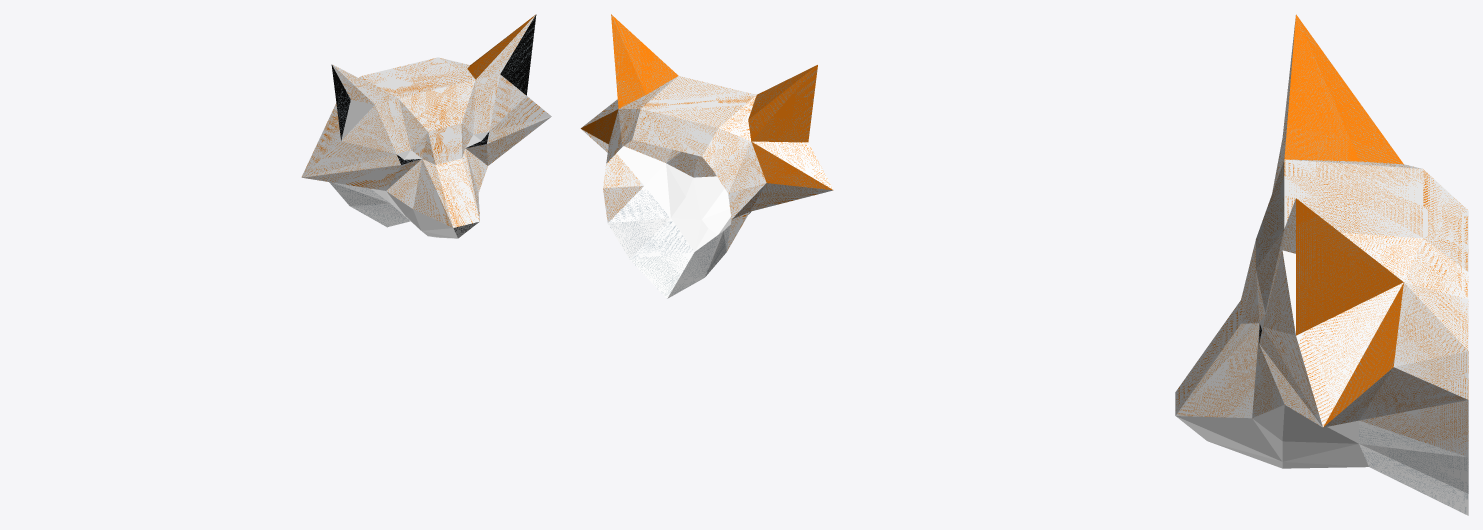
The model's file is fox_DAE.dae.
3 renders of one model, left to right at view 1: azimuth 30°, elevation 25°; view 2: azimuth 150°, elevation 25°; view 3: azimuth 270°, elevation 25°, orthographic. The views are drawn at different scales.
Parts seen in each view (by area): view 1: low_poly_fox_head (×5); view 2: low_poly_fox_head (×4); view 3: low_poly_fox_head (×4).
Part boxes in pixels (x1,y1,x2,y2): low_poly_fox_head (×5): (301,14,551,238); low_poly_fox_head (×4): (580,14,833,298); low_poly_fox_head (×4): (1175,14,1468,515).
Bounding box in the file's own units: 195819 × 49178 × 126441.
